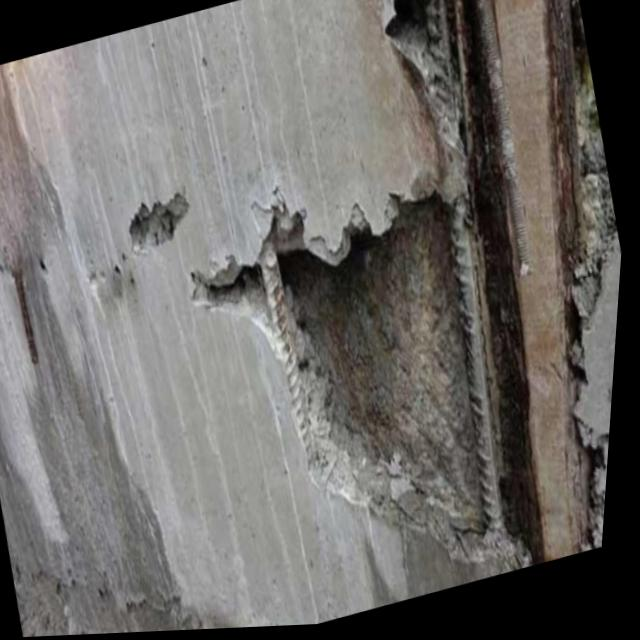Crack: (260, 148, 461, 284)
